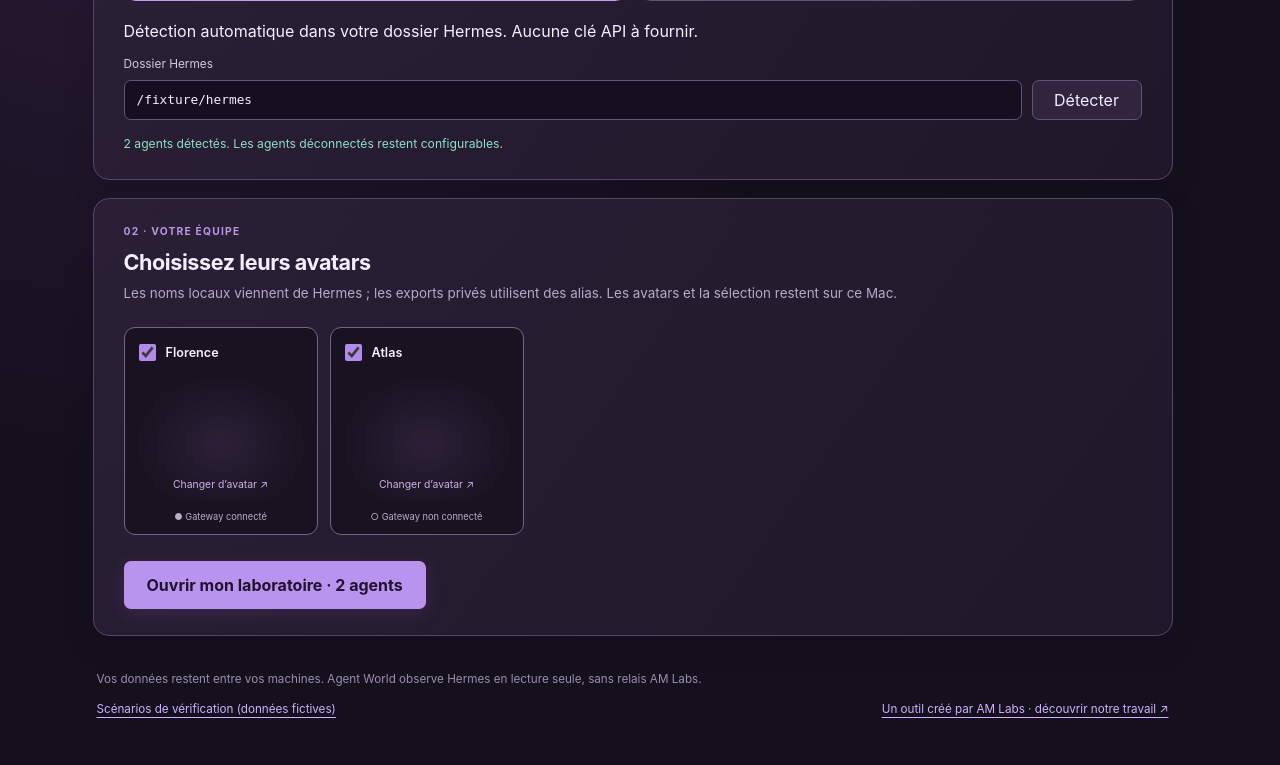
visual Hermes onboarding › does not activate preferences if the native atomic save fails
The width and height of the screenshot is (1280, 765).
(page scrolled)
Expected: the checkbox labelled "Florence" is shown, [138,344,156,361]
Step 1. Click the button "Ouvrir mon laboratoire · 2 agents" → (275, 585), box [124,561,426,609]
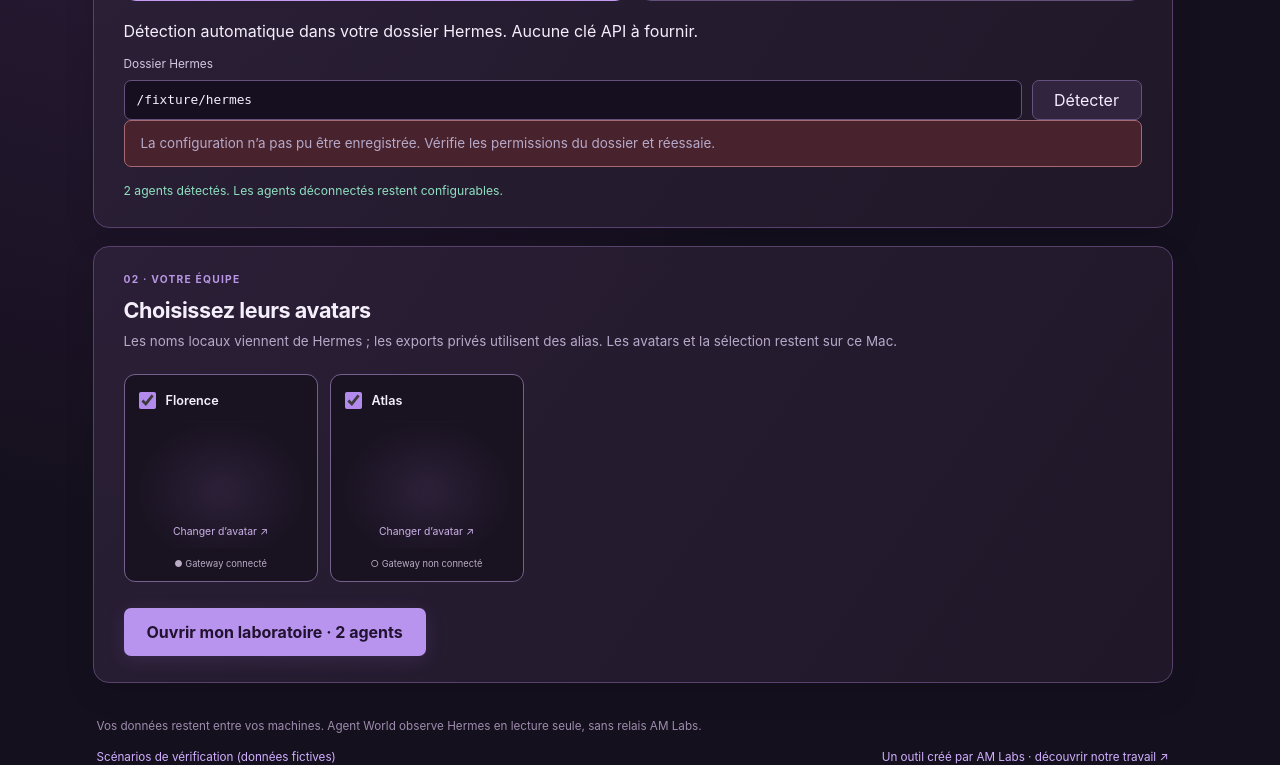
Result: the 1st message is shown at [124,120,1142,167]
